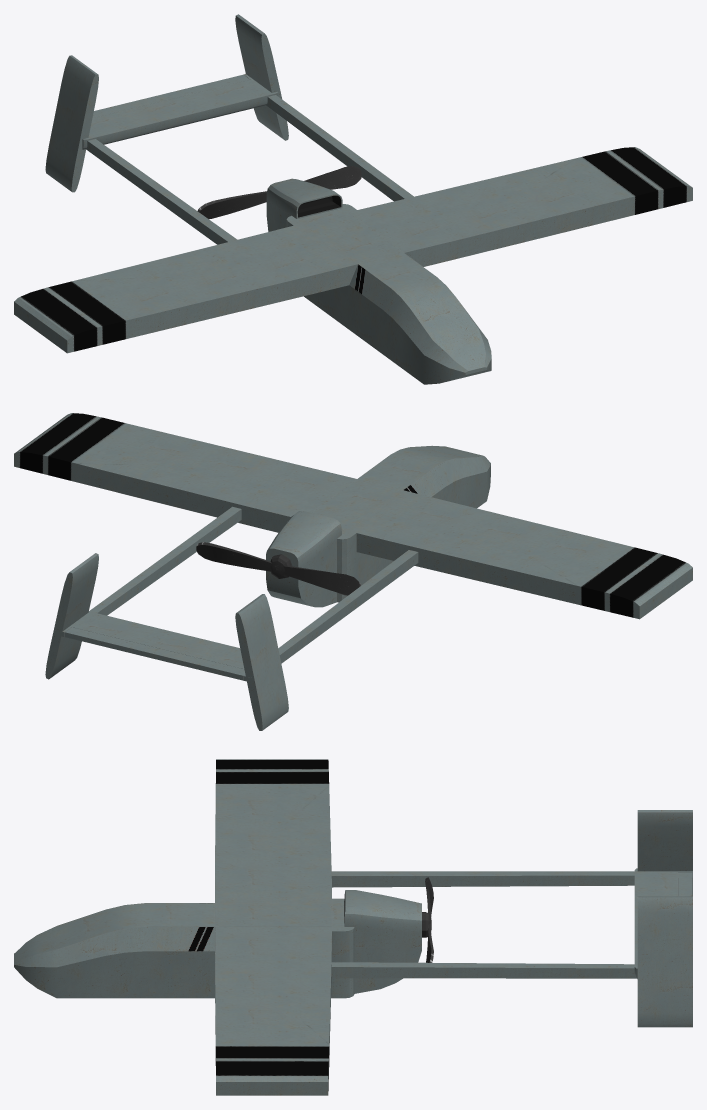
File: uav_low_poly.glb
3 views of the same model, one above another, from view 1: azimuth 30°, elevation 25°; view 2: azimuth 150°, elevation 25°; view 3: azimuth 270°, elevation 25° (orthographic). The views are drawn at different scales.
Visible parts, largest first — view 1: UAV, propeller; view 2: UAV, propeller; view 3: UAV, propeller.
Boxes of the visible parts, <box> form: UAV: <box>14,14,692,384</box>; propeller: <box>197,166,361,219</box>; UAV: <box>14,413,692,730</box>; propeller: <box>196,542,360,595</box>; UAV: <box>14,759,692,1095</box>; propeller: <box>422,877,433,962</box>.
Bounding box in the file's own units: 5.54 × 1.03 × 4.94.
Materials: 1 (1 with a texture image).
